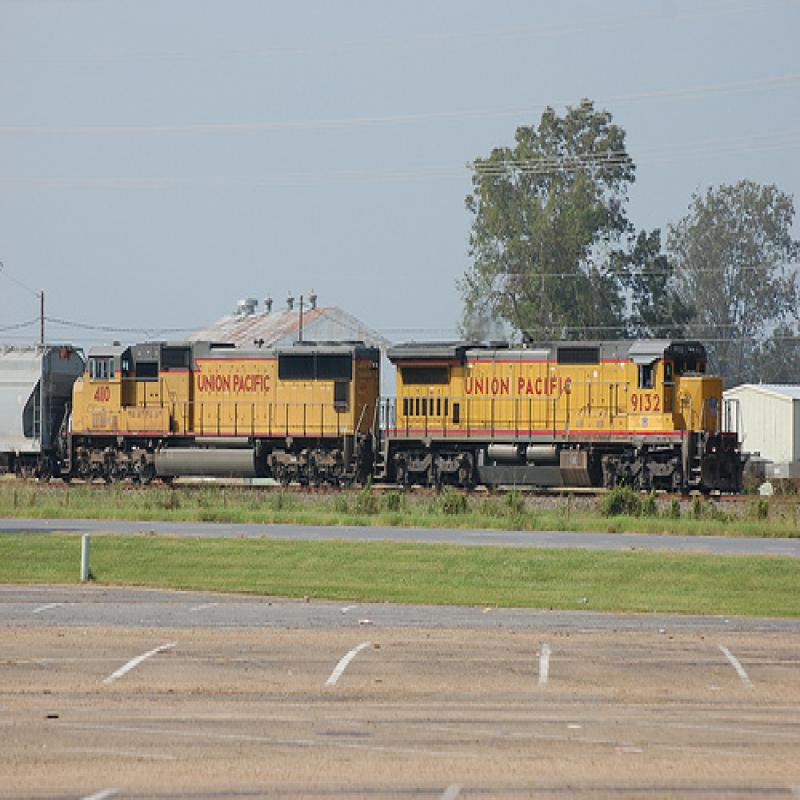train: (1, 339, 751, 503)
